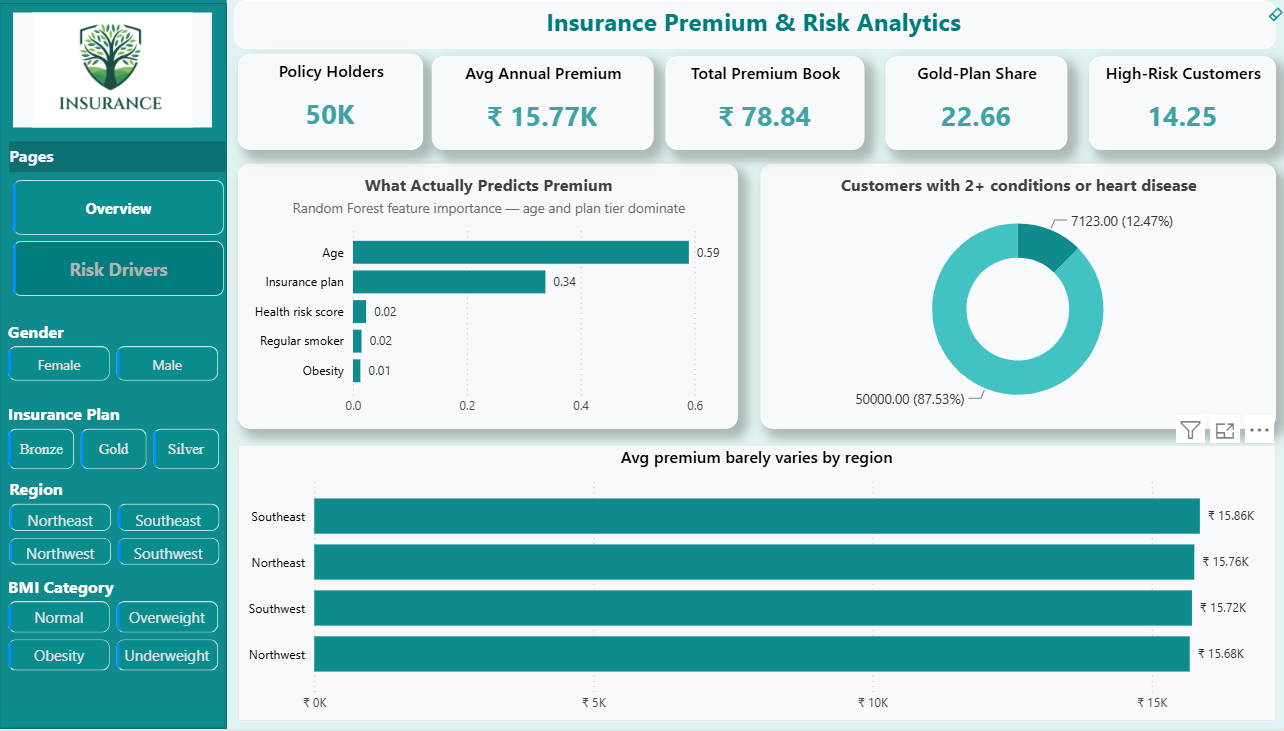

The page's visual inventory and layout, read from the dashboard file:
{"tool":"powerbi","page":{"name":"Risk Drivers","canvas":[1280,720],"ordinal":1},"visuals":[{"type":"shape","title":"Insurance Premium & Risk Analytics","box":[236.7,4.9,1021.5,47.8],"z":0},{"type":"shape","box":[6.1,0,223.2,719.8],"z":1000},{"type":"cardVisual","title":"Policy Holders","fields":{"Data":["Sheet1.Total Policyholders"]},"box":[239.9,57.5,181.5,94.4],"z":2000,"group":"g1"},{"type":"clusteredBarChart","title":"What Actually Predicts Premium","fields":{"Y":["Sum(Feature Importance.Importance)"],"Category":["Feature Importance.Feature"]},"box":[240.4,165.5,490.5,260],"z":2000},{"type":"cardVisual","title":"Avg Annual Premium","fields":{"Data":["premiums.Avg Premium"]},"box":[429.4,60.1,217.6,92],"z":3000,"group":"g1"},{"type":"cardVisual","title":"High-Risk Customers","fields":{"Data":["premiums.High Risk %"]},"box":[1075,60.1,183.1,92],"z":4000,"group":"g1"},{"type":"donutChart","title":"Customers with 2+ conditions or heart disease","fields":{"Y":["_measure.High Risk Customers","_measure.Total Customers"]},"box":[752.9,165.5,505.2,260],"z":4000},{"type":"clusteredBarChart","title":"Avg premium barely varies by region","fields":{"Y":["premiums.Avg Premium"],"Category":["premiums.Region"]},"box":[240.4,441.5,1017.8,271],"z":5000},{"type":"cardVisual","title":"Total Premium Book","fields":{"Data":["premiums.Total Premium Cr"]},"box":[658.9,60.1,195,92],"z":8000,"group":"g1"},{"type":"pageNavigator","title":"Pages","box":[14.9,176.6,212.1,125.1],"z":9000},{"type":"cardVisual","title":"Gold-Plan Share","fields":{"Data":["premiums.Gold Share %"]},"box":[875.3,60.1,178.4,92],"z":10000,"group":"g1"},{"type":"shape","title":"Pages","box":[16.2,143.5,212.1,30.7],"z":10000},{"type":"advancedSlicerVisual","title":"Gender","fields":{"Values":["premiums.Gender"]},"box":[9.8,313.9,217.1,69.9],"z":15000},{"type":"actionButton","box":[1244,5,30,25],"z":24000},{"type":"advancedSlicerVisual","title":"BMI Category","fields":{"Values":["premiums.BMI_Category"]},"box":[10,563.7,217.1,104.2],"z":25000,"group":"g2"},{"type":"group","id":"g1","title":"Group 1","box":[239.9,57.5,1018.3,94.5],"z":26000},{"type":"advancedSlicerVisual","title":"Insurance Plan","fields":{"Values":["premiums.Insurance_Plan"]},"box":[10,394.5,217.1,76],"z":27000,"group":"g2"},{"type":"advancedSlicerVisual","title":"Region","fields":{"Values":["premiums.Region"]},"box":[11.2,468.1,217.1,96.9],"z":28000,"group":"g2"},{"type":"group","id":"g2","title":"Group 3","box":[10,394.5,218.3,273.5],"z":28002},{"type":"image","box":[19.6,17.2,195,112.8],"z":28003}]}

Visuals, with their boxes in screenshot pixels (x1, y1, x2, y2), scaled from the page's 1280x720 canvas onto the 1284x731 screenshot:
"Insurance Premium & Risk Analytics" shape: x1=237 y1=5 x2=1262 y2=54
shape: x1=6 y1=0 x2=230 y2=730
"Policy Holders" cardVisual: x1=241 y1=58 x2=423 y2=154
"What Actually Predicts Premium" clusteredBarChart: x1=241 y1=168 x2=733 y2=432
"Avg Annual Premium" cardVisual: x1=431 y1=61 x2=649 y2=154
"High-Risk Customers" cardVisual: x1=1078 y1=61 x2=1262 y2=154
"Customers with 2+ conditions or heart disease" donutChart: x1=755 y1=168 x2=1262 y2=432
"Avg premium barely varies by region" clusteredBarChart: x1=241 y1=448 x2=1262 y2=723
"Total Premium Book" cardVisual: x1=661 y1=61 x2=857 y2=154
"Pages" pageNavigator: x1=15 y1=179 x2=228 y2=306
"Gold-Plan Share" cardVisual: x1=878 y1=61 x2=1057 y2=154
"Pages" shape: x1=16 y1=146 x2=229 y2=177
"Gender" advancedSlicerVisual: x1=10 y1=319 x2=228 y2=390
actionButton: x1=1248 y1=5 x2=1278 y2=30
"BMI Category" advancedSlicerVisual: x1=10 y1=572 x2=228 y2=678
"Group 1" group: x1=241 y1=58 x2=1262 y2=154
"Insurance Plan" advancedSlicerVisual: x1=10 y1=401 x2=228 y2=478
"Region" advancedSlicerVisual: x1=11 y1=475 x2=229 y2=574
"Group 3" group: x1=10 y1=401 x2=229 y2=678
image: x1=20 y1=17 x2=215 y2=132
